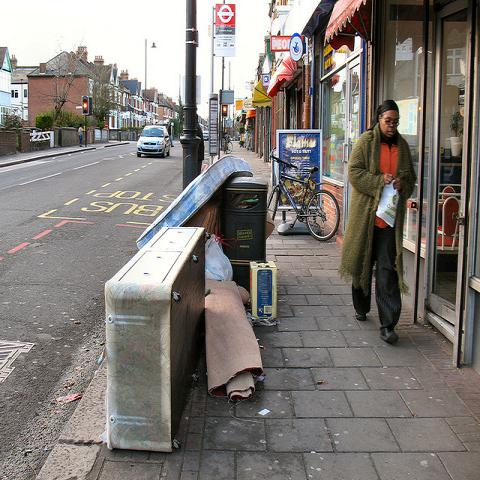car: (137, 124, 172, 160), (203, 131, 209, 141)
